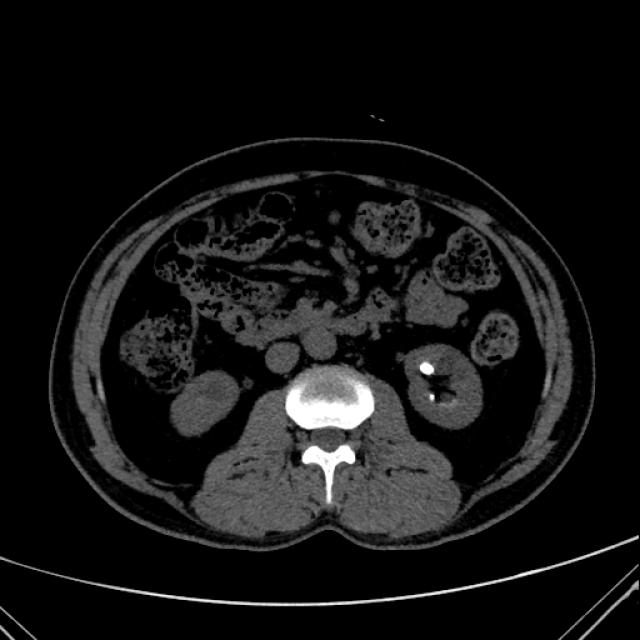kidneystone: (420, 362, 434, 376), (429, 392, 435, 402)
